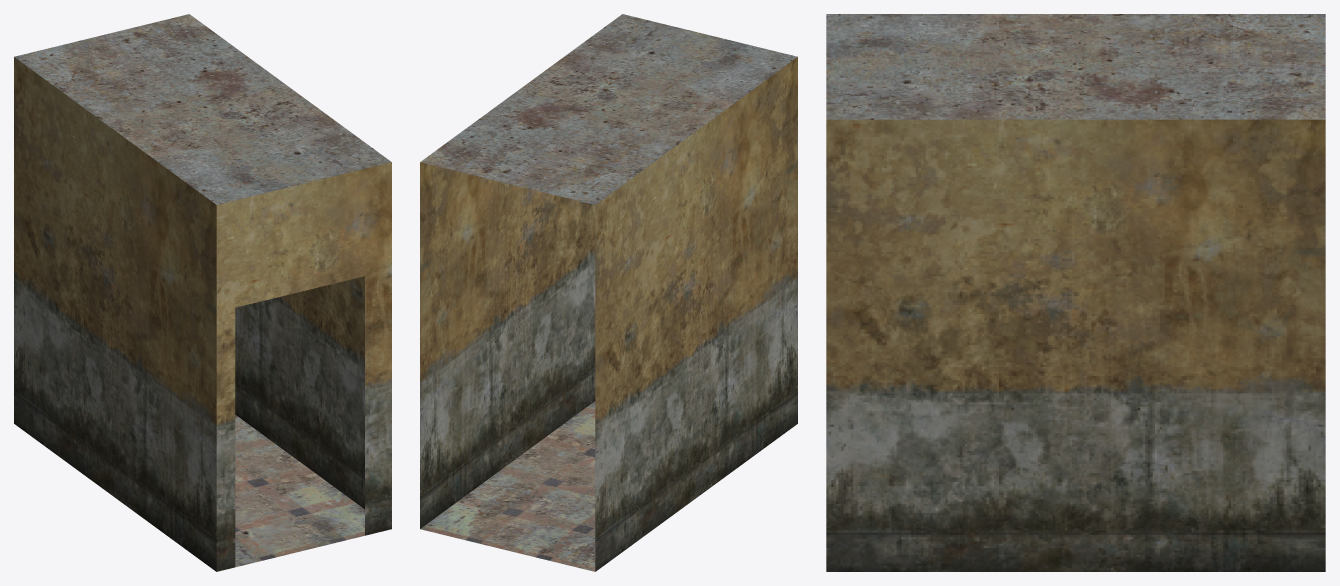
File: _Corridor_part22.FBX
3 renders of one model, left to right at view 1: azimuth 30°, elevation 25°; view 2: azimuth 150°, elevation 25°; view 3: azimuth 270°, elevation 25°, orthographic. The views are drawn at different scales.
Visible parts, largest first — view 1: Corridor_Part22; view 2: Corridor_Part22; view 3: Corridor_Part22.
Boxes of the visible parts, left/top/right/bottom form: Corridor_Part22: left=14, top=14, right=391, bottom=571; Corridor_Part22: left=420, top=14, right=797, bottom=571; Corridor_Part22: left=826, top=14, right=1325, bottom=571.
Bounding box in the file's own units: 127 × 254 × 254.
3 materials, 3 textured.
